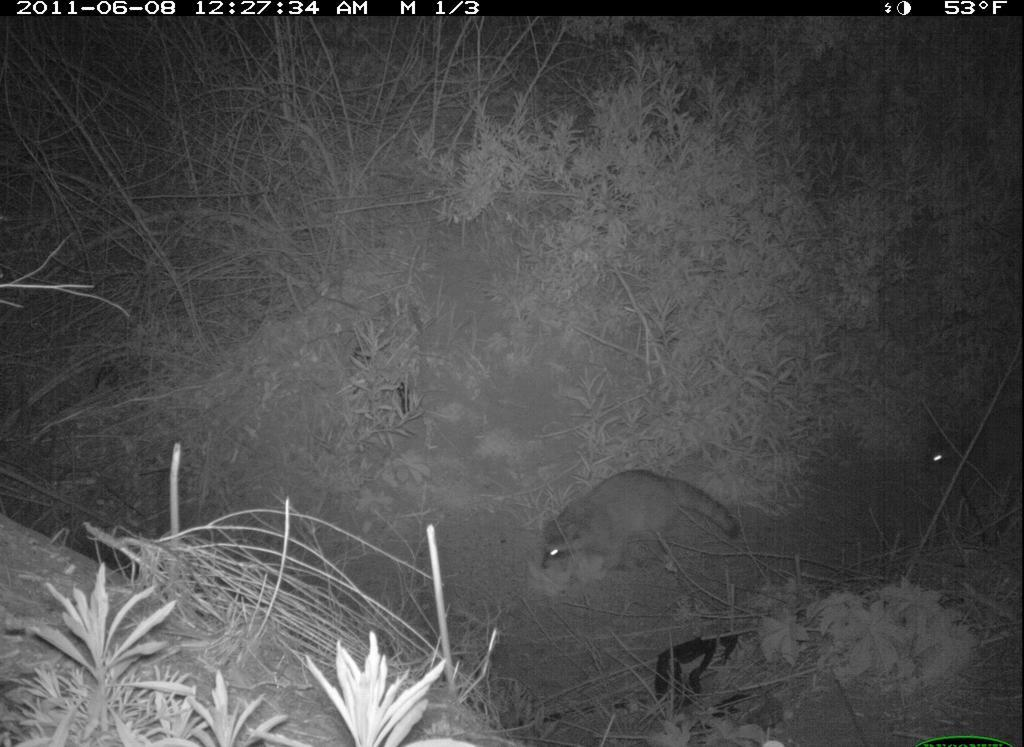raccoon: (516, 459, 749, 594), (907, 399, 1023, 536)
